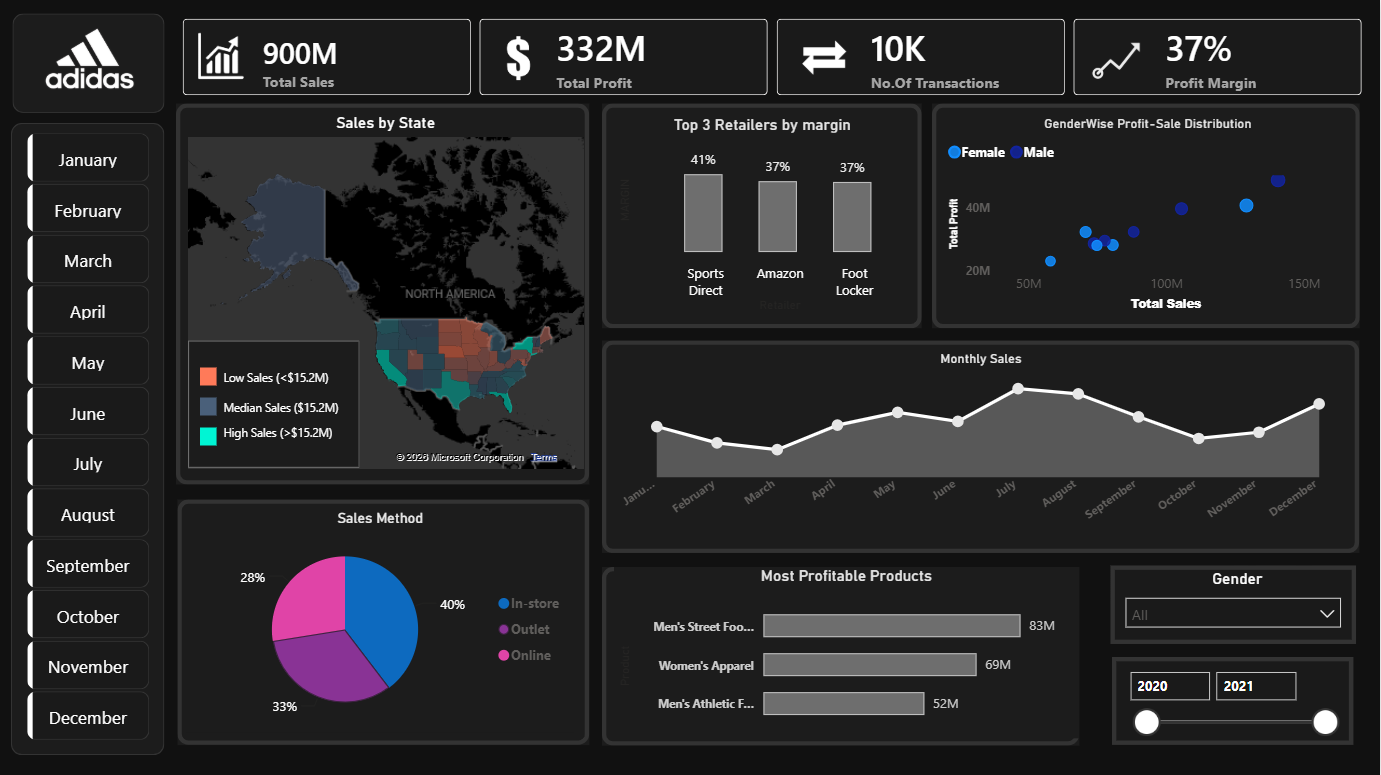

Layout of this report page (visuals, bound fields, positions):
{"tool":"powerbi","page":{"name":"Page 1","canvas":[1280,720],"ordinal":0},"visuals":[{"type":"shape","box":[11.8,11.8,140.8,92.1],"z":0},{"type":"group","id":"g1","title":"Group 1","box":[185.9,333.3,153.3,30.8],"z":0,"group":"g4"},{"type":"shape","box":[186.6,395.8,15.6,16.7],"z":0,"group":"g3"},{"type":"shape","box":[173.9,302.9,91.3,130.4],"z":1000},{"type":"shape","box":[185.9,340.8,15.4,16.9],"z":1000,"group":"g1"},{"type":"group","id":"g2","title":"Group 2","box":[186.6,360.8,152.7,30.8],"z":1000,"group":"g4"},{"type":"textbox","box":[202.6,385,119.2,33.3],"z":1000,"group":"g3"},{"type":"image","box":[22.4,18.4,121.1,77.6],"z":2000},{"type":"shape","box":[186.6,368.4,15.6,16.7],"z":2000,"group":"g2"},{"type":"group","id":"g3","title":"Group 3","box":[186.6,385,135.2,33.3],"z":2000,"group":"g4"},{"type":"shape","box":[10.8,113.5,141.9,585.3],"z":3000},{"type":"textbox","box":[202.6,333.3,136.7,30.8],"z":3001,"group":"g1"},{"type":"textbox","box":[202.6,360.8,136.7,30.8],"z":3002,"group":"g2"},{"type":"advancedSlicerVisual","fields":{"Values":["Calendar.Date.Variation.Date Hierarchy.Month"]},"box":[20.3,117.6,123,581.2],"z":4000},{"type":"cardVisual","fields":{"Data":["Data Sales Adidas.TOTAL SALE","Data Sales Adidas.Total Profit","Data Sales Adidas.No.Of Transactions","Data Sales Adidas.MARGIN"]},"box":[152.8,0,1127.8,105.6],"z":5000},{"type":"shape","box":[163.6,96,382.5,352.8],"z":6000},{"type":"shape","box":[558.7,315,701.1,196.8],"z":7000},{"type":"areaChart","title":"Monthly Sales","fields":{"Category":["Calendar.Date.Variation.Date Hierarchy.Month","Calendar.Date.Variation.Date Hierarchy.Day"],"Y":["Data Sales Adidas.TOTAL SALE"]},"box":[569.3,325.6,679.9,166.6],"z":8000},{"type":"shape","box":[558.3,96,296,208.2],"z":9000},{"type":"slicer","title":"Gender","fields":{"Values":["Data Sales Adidas.Gender"]},"box":[1029.7,523.9,227.1,72.7],"z":10000},{"type":"slicer","fields":{"Values":["Calendar.Date.Variation.Date Hierarchy.Year"]},"box":[1030,608.3,223,81.1],"z":11000},{"type":"filledMap","title":"Sales by State","fields":{"Category":["Data Sales Adidas.State"]},"box":[169,105.4,377.1,333.9],"z":12000},{"type":"shape","box":[558.3,525,441.7,165.3],"z":13000},{"type":"shape","box":[174.4,315.4,159,117.9],"z":13250},{"type":"group","id":"g4","title":"Group 4","box":[185.9,333.3,153.8,85.9],"z":13500},{"type":"shape","box":[863.7,96,396.1,208.2],"z":15000},{"type":"clusteredBarChart","title":"Best-Selling Products","fields":{"Category":["Data Sales Adidas.Product"],"Y":["Data Sales Adidas.Total Profit"]},"box":[569.4,531.9,420.8,145.8],"z":16000},{"type":"shape","box":[164.9,462.3,381.2,227.1],"z":17000},{"type":"pieChart","title":"Sales Method","fields":{"Y":["Data Sales Adidas.TOTAL SALE"],"Category":["Data Sales Adidas.Sales Method"]},"box":[174.1,472.4,358.9,205.9],"z":18000},{"type":"scatterChart","title":"GenderWise Profit-Sale Distribution","fields":{"X":["Data Sales Adidas.TOTAL SALE"],"Series":["Data Sales Adidas.Gender"],"Y":["Data Sales Adidas.Total Profit"],"Size":["Sum(Data Sales Adidas.Units Sold)"],"Category":["Data Sales Adidas.Region"]},"box":[873.6,106.9,380.6,186.1],"z":19000},{"type":"clusteredColumnChart","title":"Top 3 Retailers by margin","fields":{"Category":["Data Sales Adidas.Retailer"],"Y":["Data Sales Adidas.MARGIN"]},"box":[569.4,106.9,275,186.1],"z":20000}]}

Visuals, with their boxes in screenshot pixels (x1, y1, x2, y2), scaled from the page's 1280x720 canvas onto the 1381x775 screenshot:
shape: l=13, t=13, r=165, b=112
"Group 1" group: l=201, t=359, r=366, b=392
shape: l=201, t=426, r=218, b=444
shape: l=188, t=326, r=286, b=466
shape: l=201, t=367, r=217, b=385
"Group 2" group: l=201, t=388, r=366, b=422
textbox: l=219, t=414, r=347, b=450
image: l=24, t=20, r=155, b=103
shape: l=201, t=397, r=218, b=415
"Group 3" group: l=201, t=414, r=347, b=450
shape: l=12, t=122, r=165, b=752
textbox: l=219, t=359, r=366, b=392
textbox: l=219, t=388, r=366, b=422
advancedSlicerVisual - Calendar.Date.Variation.Date Hierarchy.Month: l=22, t=127, r=155, b=752
cardVisual - Data Sales Adidas.TOTAL SALE x Data Sales Adidas.Total Profit: l=165, t=0, r=1380, b=114
shape: l=177, t=103, r=589, b=483
shape: l=603, t=339, r=1359, b=551
"Monthly Sales" areaChart: l=614, t=350, r=1348, b=530
shape: l=602, t=103, r=922, b=327
"Gender" slicer: l=1111, t=564, r=1356, b=642
slicer - Calendar.Date.Variation.Date Hierarchy.Year: l=1111, t=655, r=1352, b=742
"Sales by State" filledMap: l=182, t=113, r=589, b=473
shape: l=602, t=565, r=1079, b=743
shape: l=188, t=339, r=360, b=466
"Group 4" group: l=201, t=359, r=367, b=451
shape: l=932, t=103, r=1359, b=327
"Best-Selling Products" clusteredBarChart: l=614, t=573, r=1068, b=729
shape: l=178, t=498, r=589, b=742
"Sales Method" pieChart: l=188, t=508, r=575, b=730
"GenderWise Profit-Sale Distribution" scatterChart: l=943, t=115, r=1353, b=315
"Top 3 Retailers by margin" clusteredColumnChart: l=614, t=115, r=911, b=315
